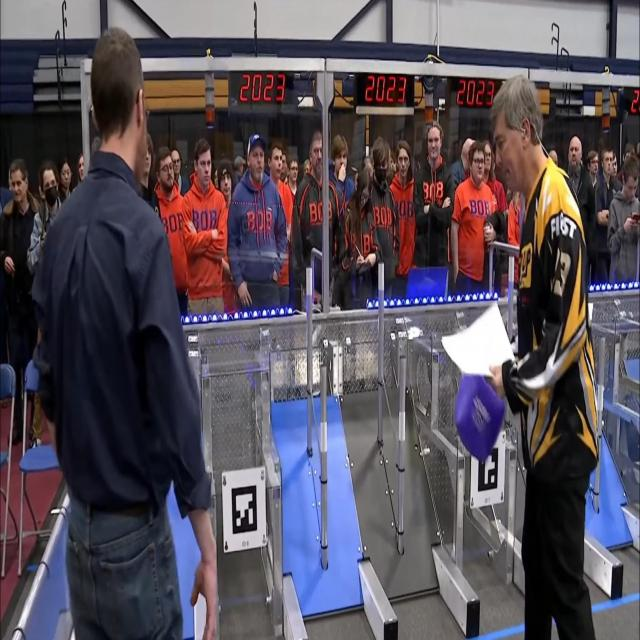frc_cube: (454, 364, 506, 466)
